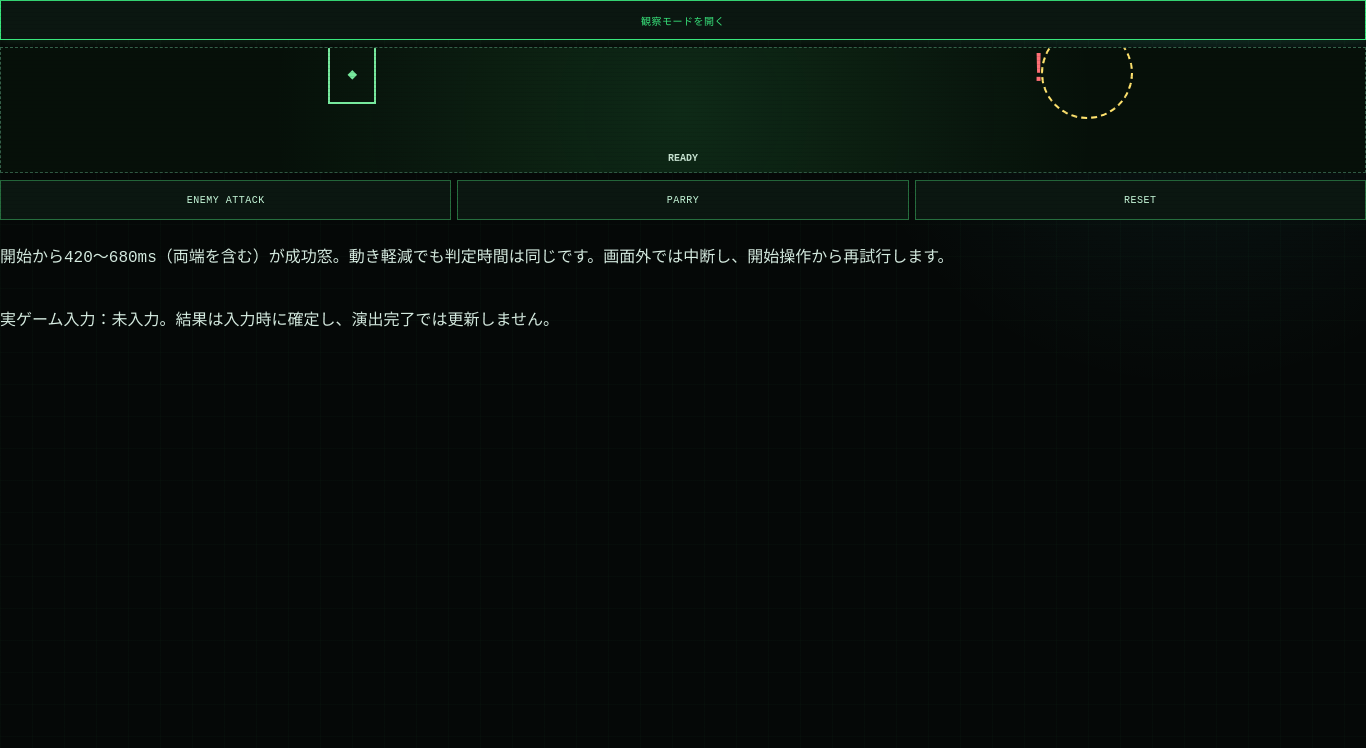
Test: parry live game isolation › explicitly interrupts an unfinished attack on entering observation and rejects old timers
Click the button "ENEMY ATTACK": (226, 200) [0,180,451,220]
Wait 200 ms
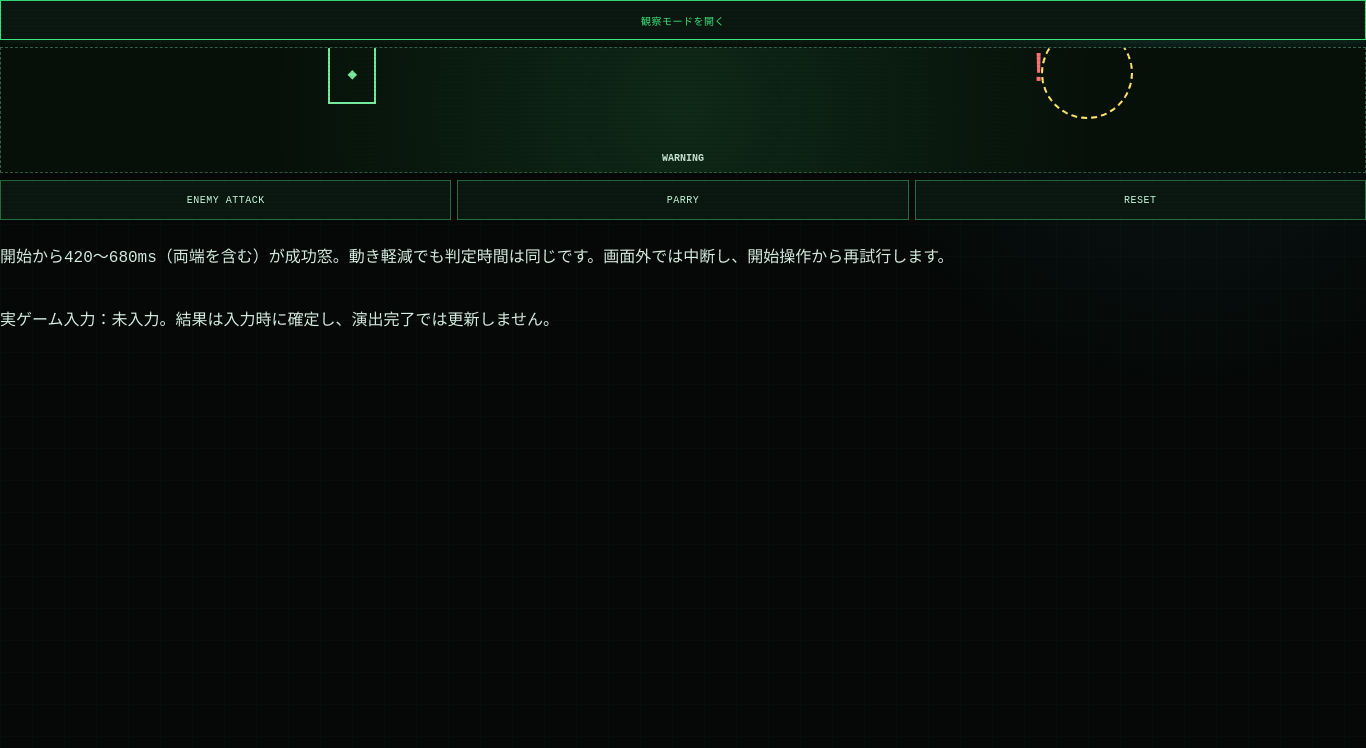
Click the button "観察モードを開く": (683, 20) [0,0,1365,40]
Wait 1000 ms
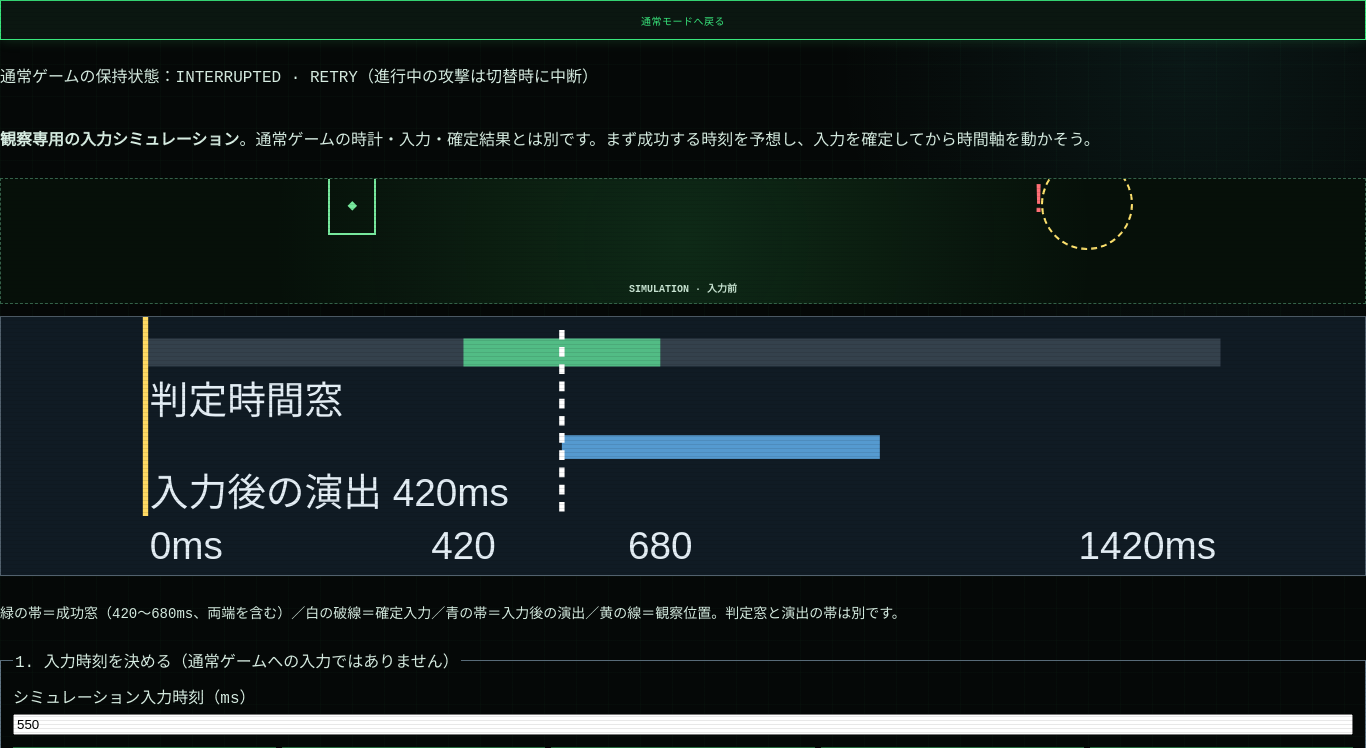
Click the button "通常モードへ戻る": (683, 20) [0,0,1365,40]
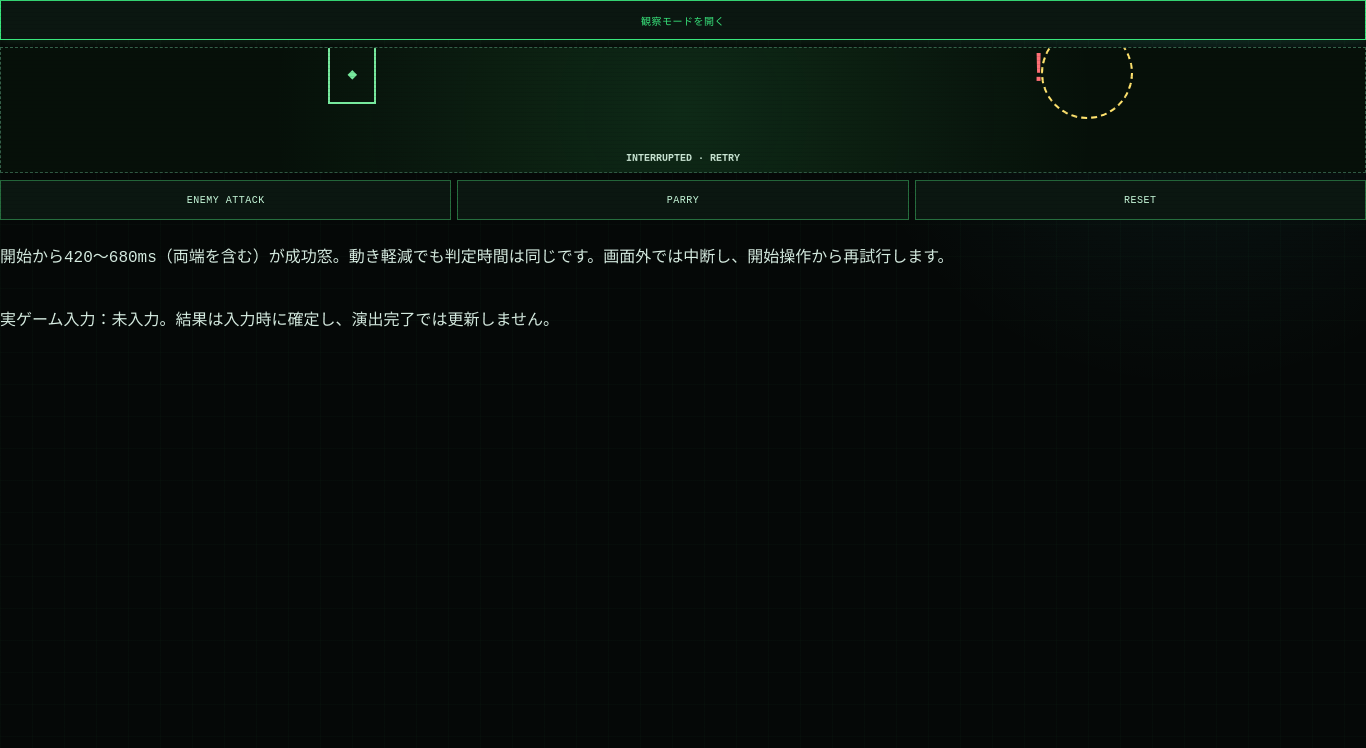
Click the button "PARRY": (683, 200) [457,180,909,220]
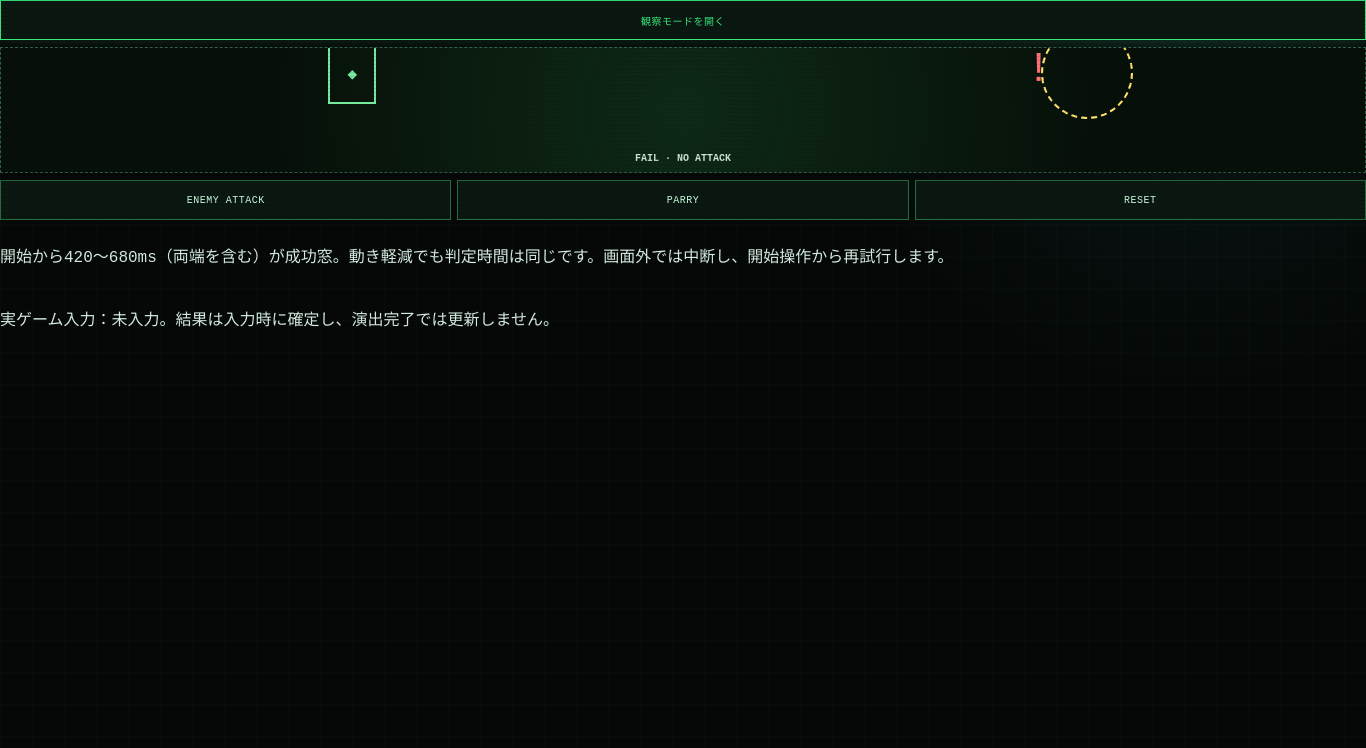
Expected: the text "FAIL · NO ATTACK" is shown, [635,153,731,164]
Click the button "ENEMY ATTACK": (226, 200) [0,180,451,220]
Wait 500 ms
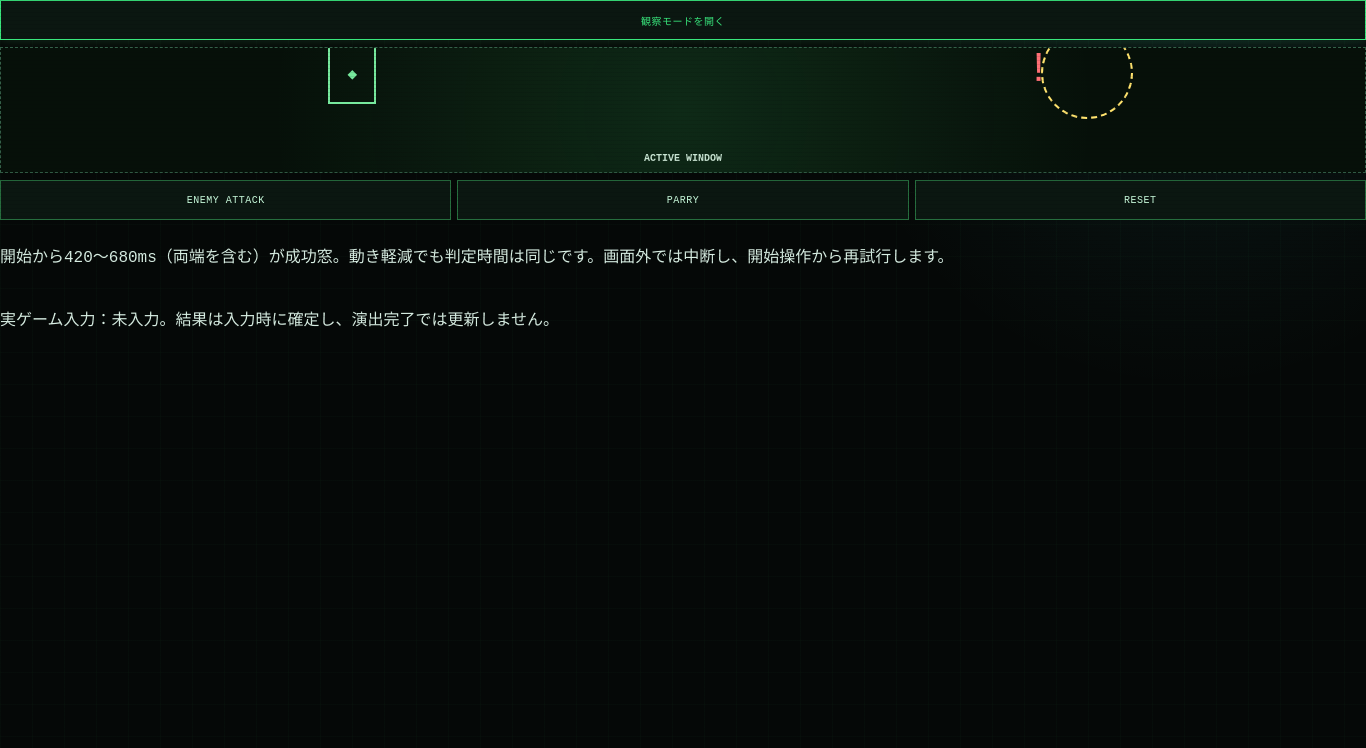
Click the button "PARRY": (683, 200) [457,180,909,220]
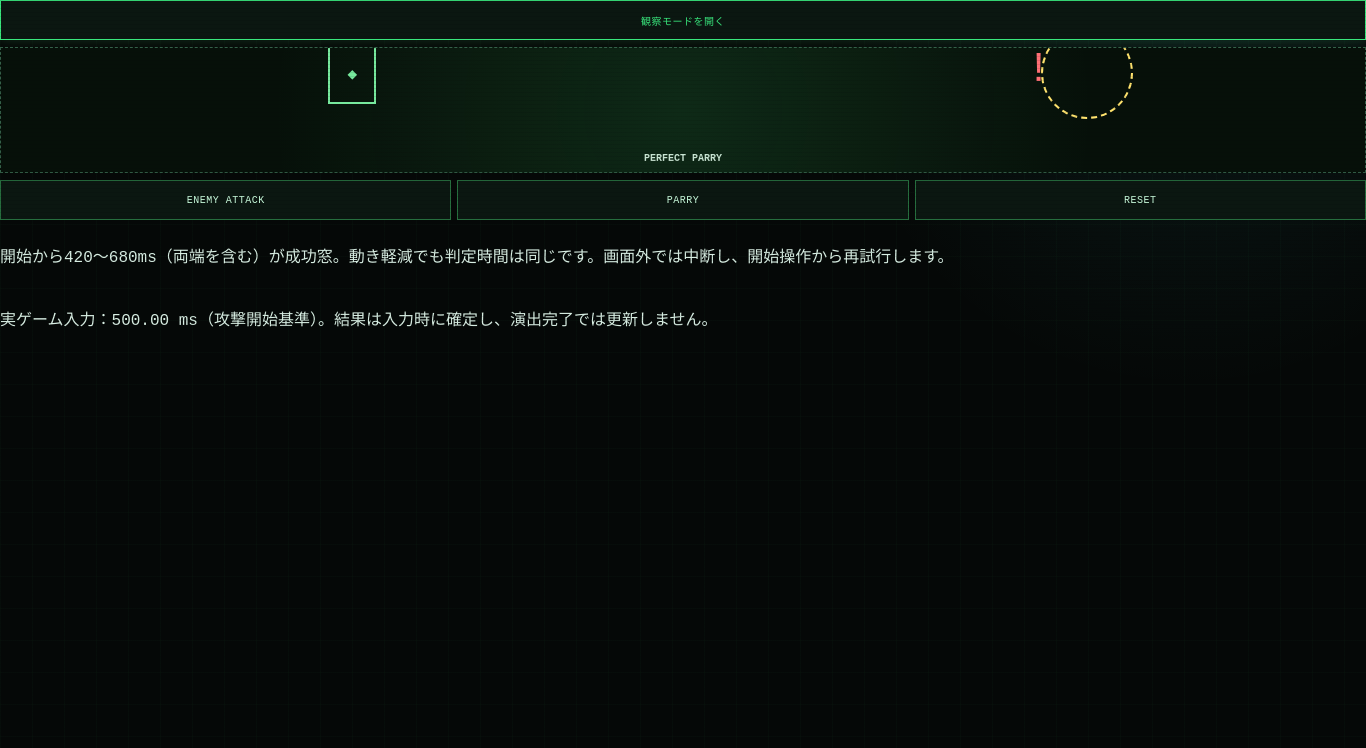
Expected: the text "PERFECT PARRY" is shown, [644,153,722,164]
